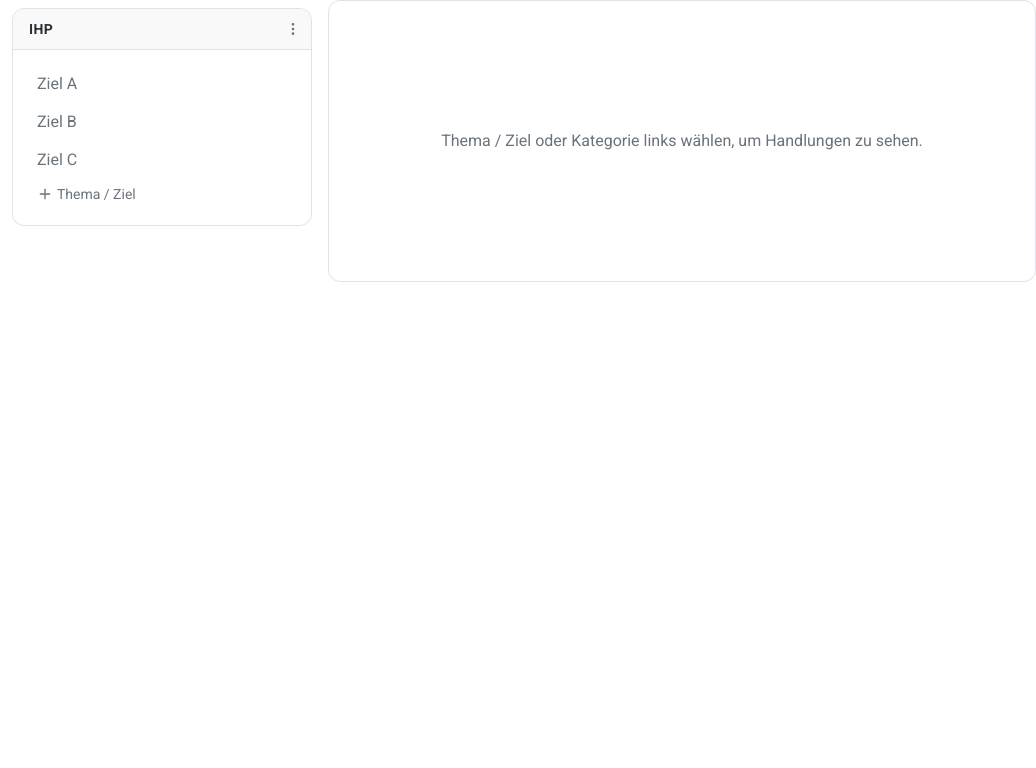
Test case: AssessmentOutline planning master-detail › wählt mit Klick auf die Disziplin alle ihre Ziele, einzelne lassen sich abwählen
Click the button "IHP" at coordinates (41, 29), box x1=13 y1=9 x2=279 y2=49
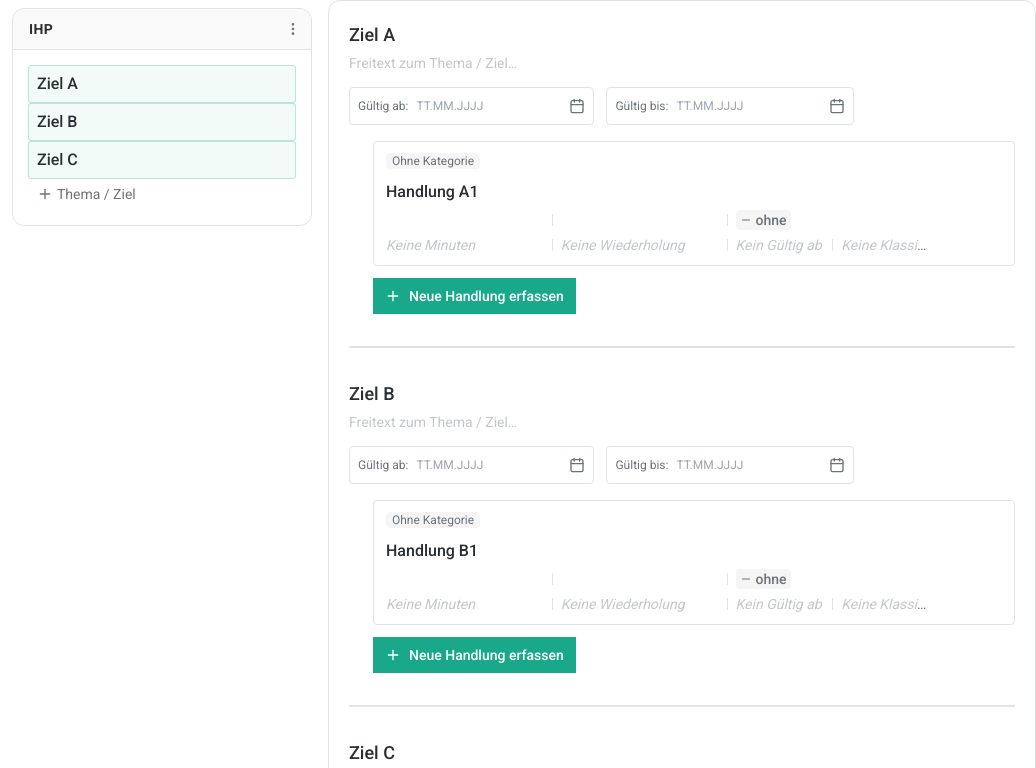
Check: the text "Handlung A1" is shown, box x1=386 y1=180 x2=478 y2=204
Check: the text "Handlung B1" is shown, box x1=386 y1=539 x2=478 y2=563
Click the button "Ziel B" at coordinates (57, 122), box x1=29 y1=104 x2=295 y2=140
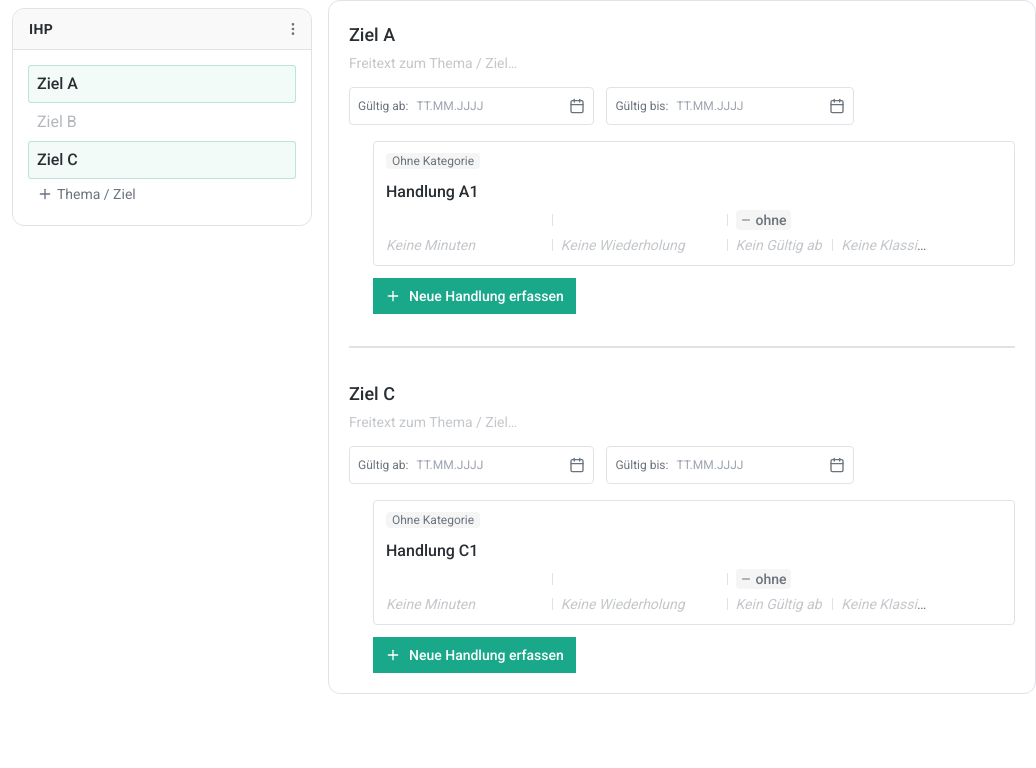
Check: the text "Handlung A1" is shown, box x1=386 y1=180 x2=478 y2=204
Check: the text "Handlung B1" is gone
